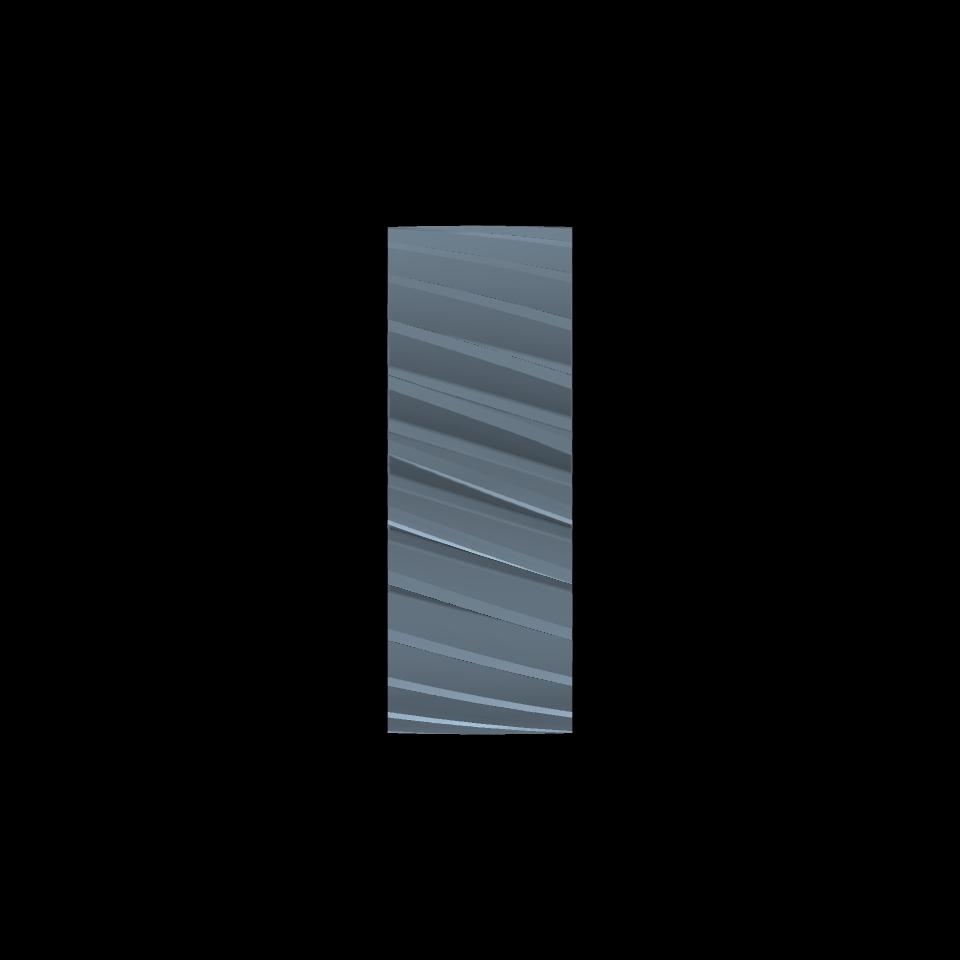Helical: (388, 227, 573, 734)
